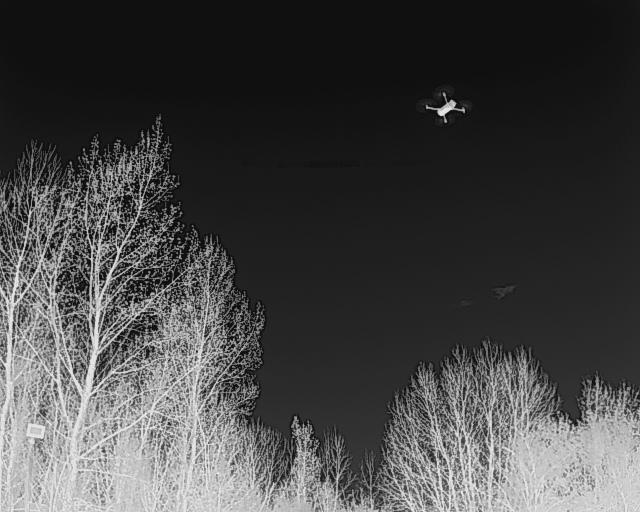drone: (415, 86, 469, 134)
